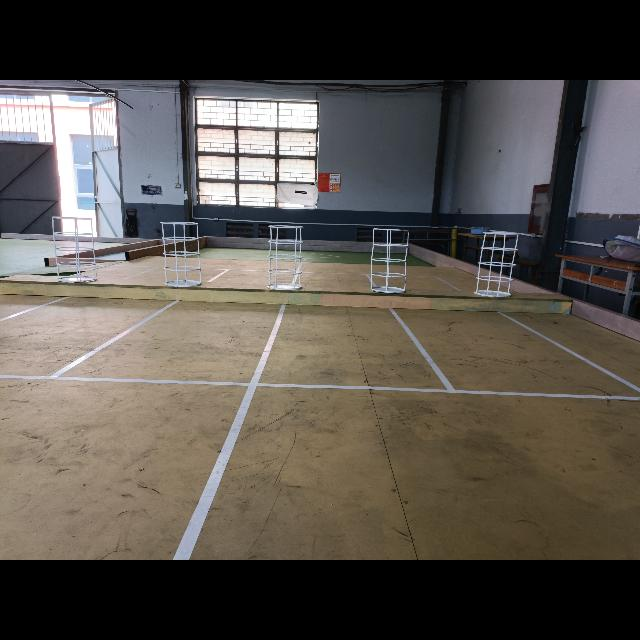S: (50, 215, 99, 284), (473, 232, 523, 299), (160, 221, 203, 289), (370, 228, 412, 294), (267, 225, 305, 291)
